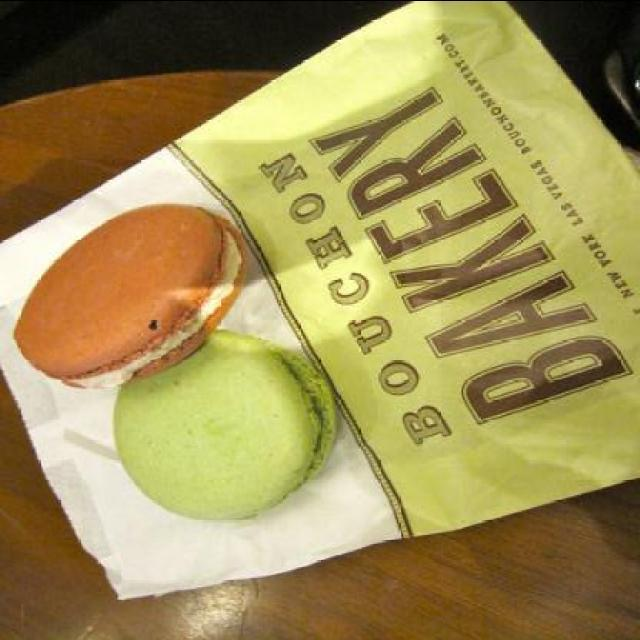Macaron: (13, 166, 336, 524)
